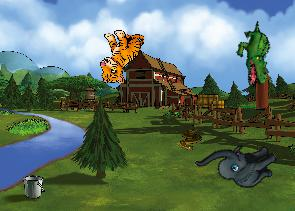crocodile: (227, 20, 283, 89)
elephant: (194, 121, 283, 207)
tiger: (99, 29, 144, 83)
